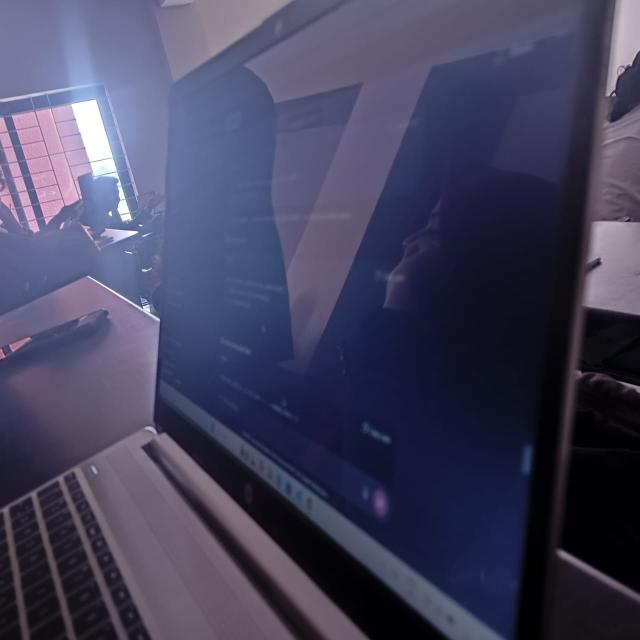laptop: (59, 0, 611, 640)
